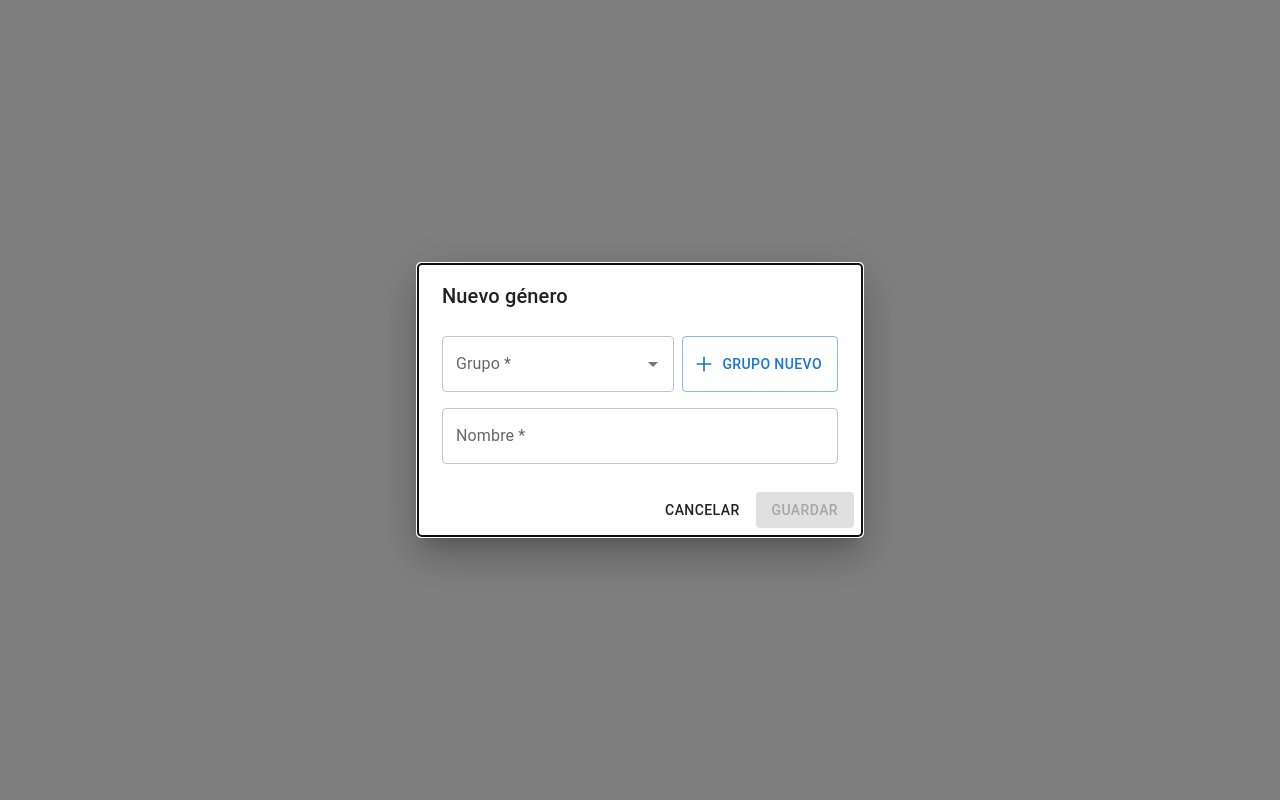
Test: TaxonDialog › no deja guardar un género sin grupo
The image size is (1280, 800).
In the field labelled "Nombre *": [640, 436] box [442,408,838,464], type "Phyllium"
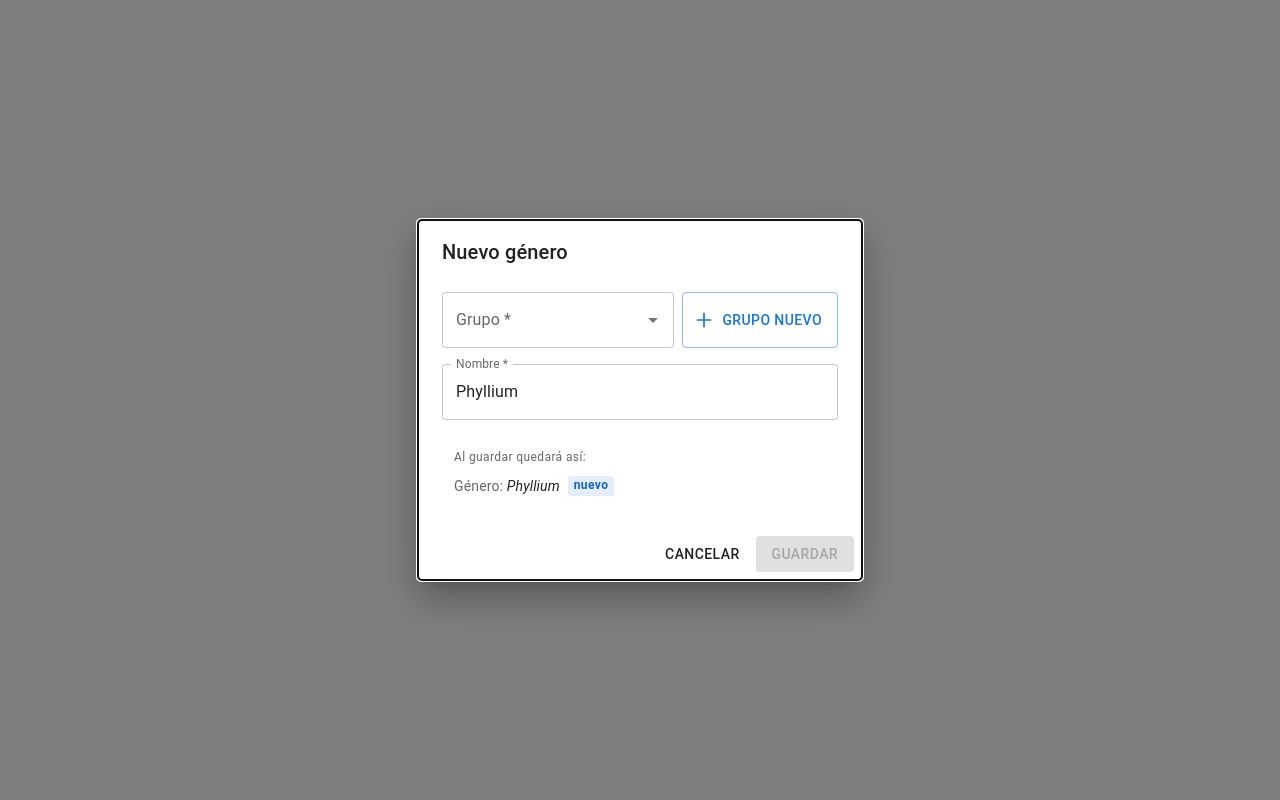
Expected: the button "Guardar" is disabled, [756,536,854,572]
Click the button "Grupo nuevo": [760, 320] box [682,292,838,348]
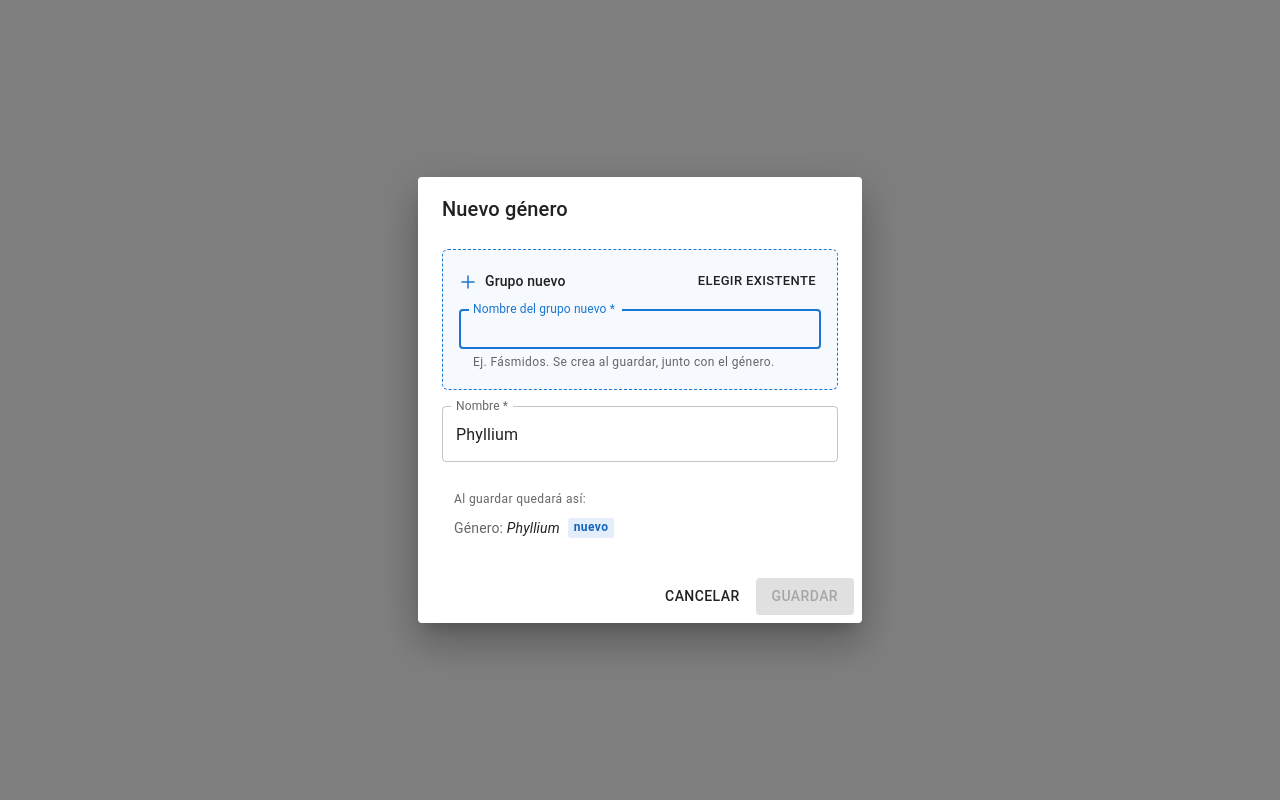
In the field labelled "Nombre del grupo nuevo *": [640, 329] box [459,309,821,349], type "Fásmidos"
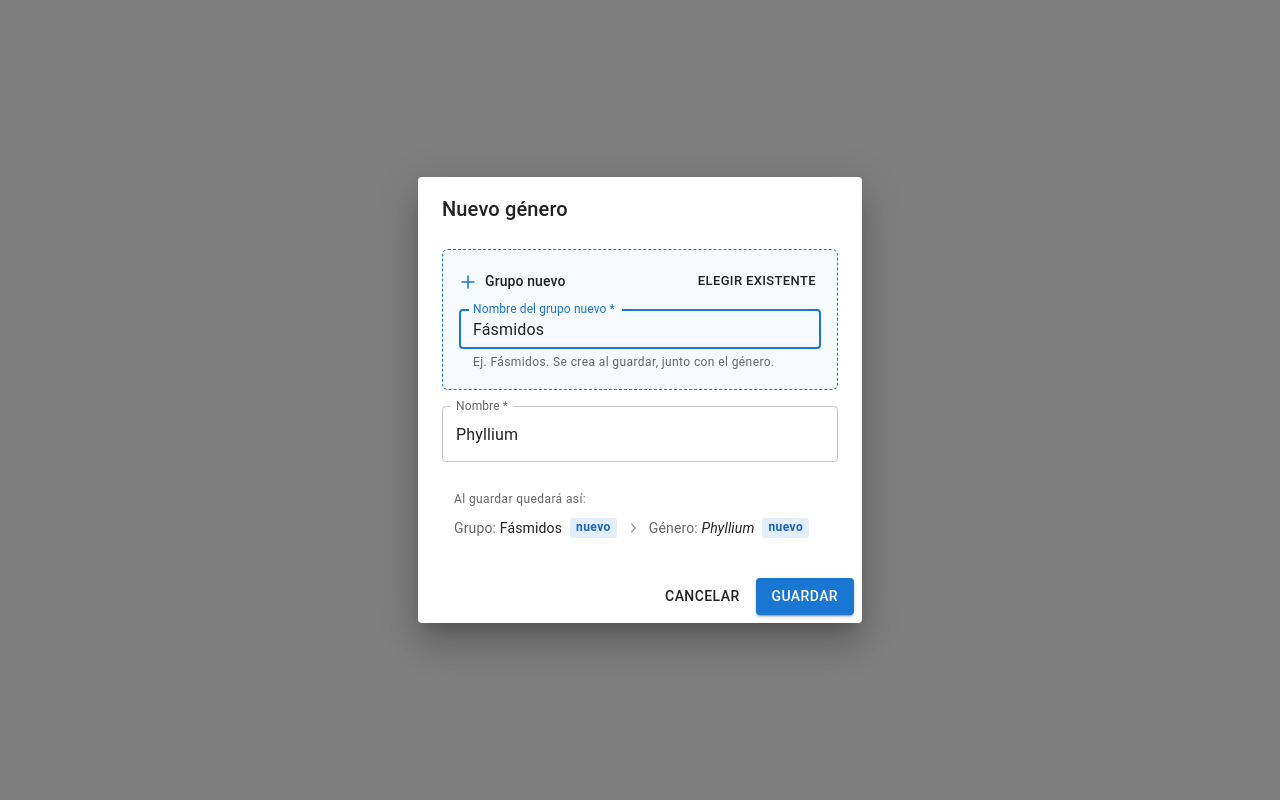
Now the button "Guardar" is enabled, box [756,578,854,614]
